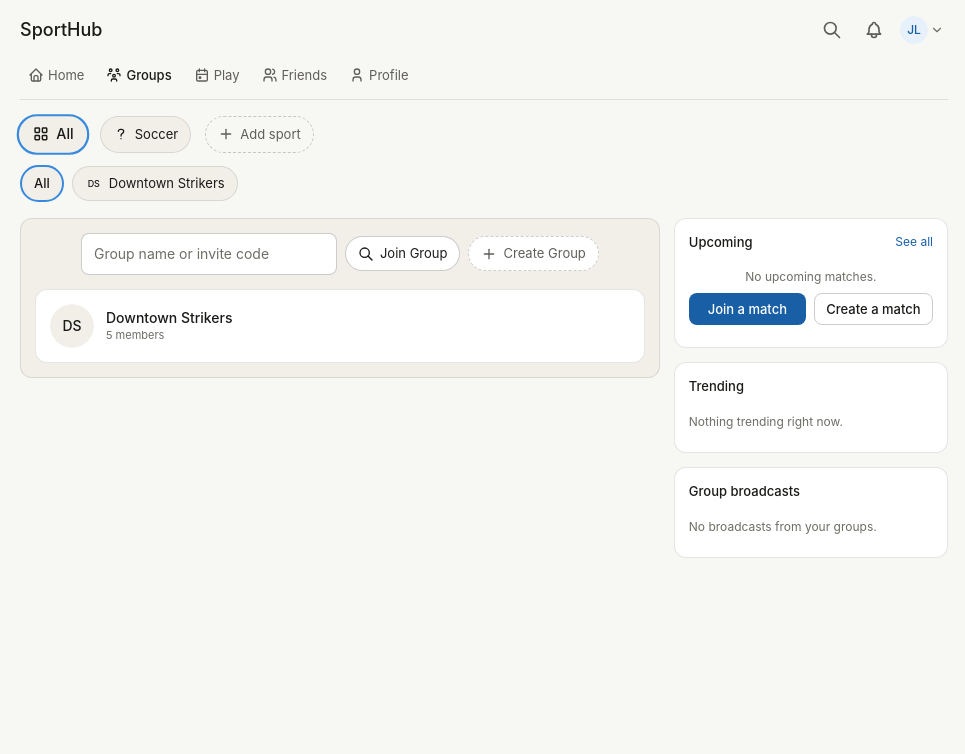
Test: App routing › selecting a group on /groups reveals the post composer
This screenshot has width=965, height=754.
What coordinates should you click on to do the following:
click the button with aria-label "Open Downtown Strikers"
I would click on:
 (72, 326)
Its box is x1=35 y1=288 x2=645 y2=362.
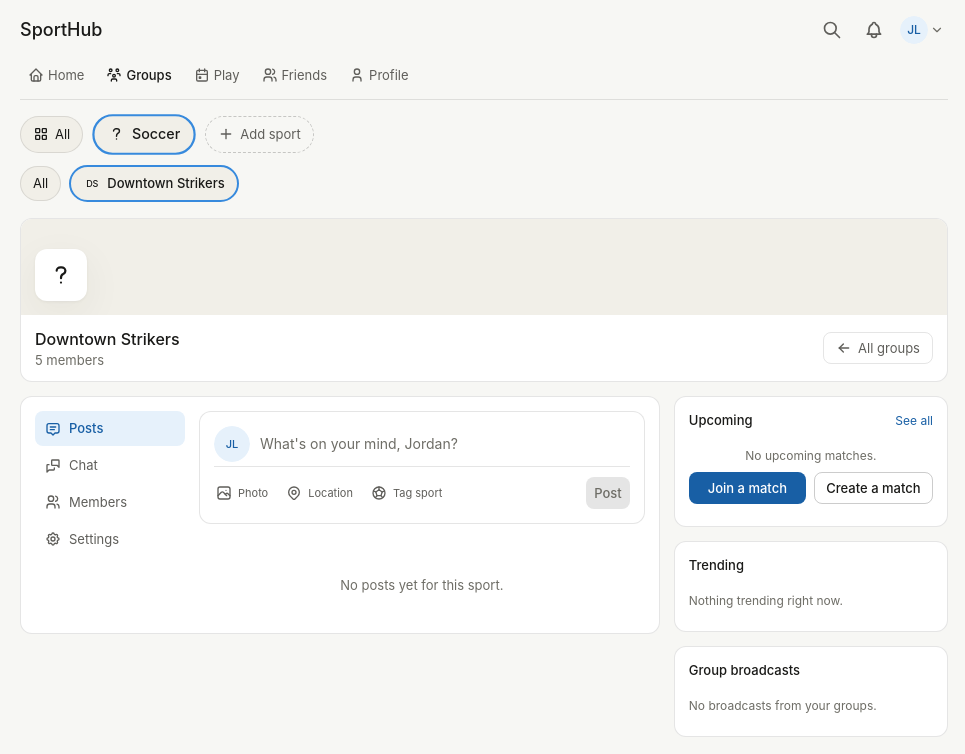
Check: the text box named "Create a post" is shown, box x1=260 y1=426 x2=630 y2=462
